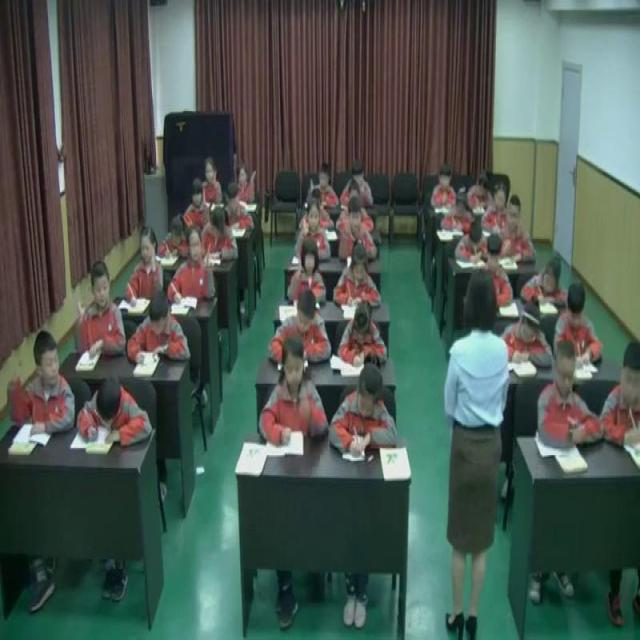focused: (261, 335, 329, 452), (328, 361, 400, 464), (538, 338, 601, 448), (78, 376, 152, 454), (597, 339, 640, 448), (126, 296, 188, 371), (551, 284, 606, 362), (271, 291, 328, 364), (334, 241, 383, 308), (338, 301, 389, 364), (497, 194, 537, 264), (506, 300, 547, 367), (479, 238, 516, 303), (528, 254, 572, 306), (293, 195, 330, 255), (201, 207, 238, 264), (337, 203, 376, 255), (342, 163, 376, 209), (224, 180, 253, 233), (456, 219, 488, 267), (442, 194, 476, 239), (483, 182, 512, 233), (431, 165, 460, 213), (185, 180, 211, 230), (161, 213, 190, 256), (467, 175, 496, 212)
raising_hand: (9, 335, 73, 438), (79, 256, 126, 363), (168, 230, 216, 309), (124, 223, 164, 303), (290, 237, 322, 305), (305, 163, 340, 214), (234, 160, 260, 212), (200, 157, 225, 210)
